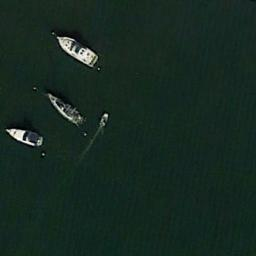boat: (54, 34, 100, 68), (48, 92, 84, 125), (5, 128, 44, 146), (98, 112, 109, 128)
